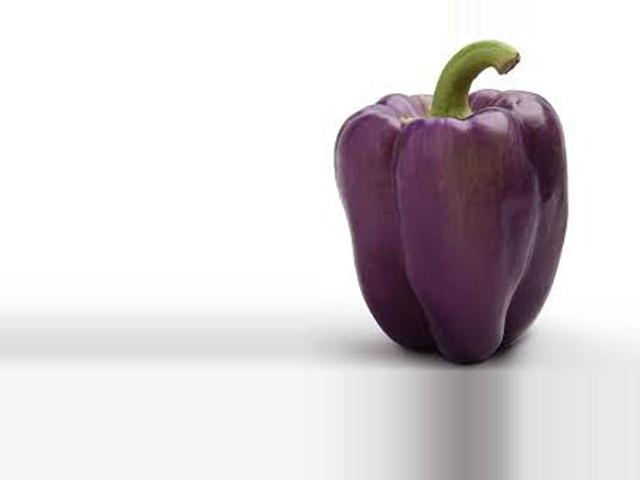bell_pepper: (314, 44, 593, 356)
